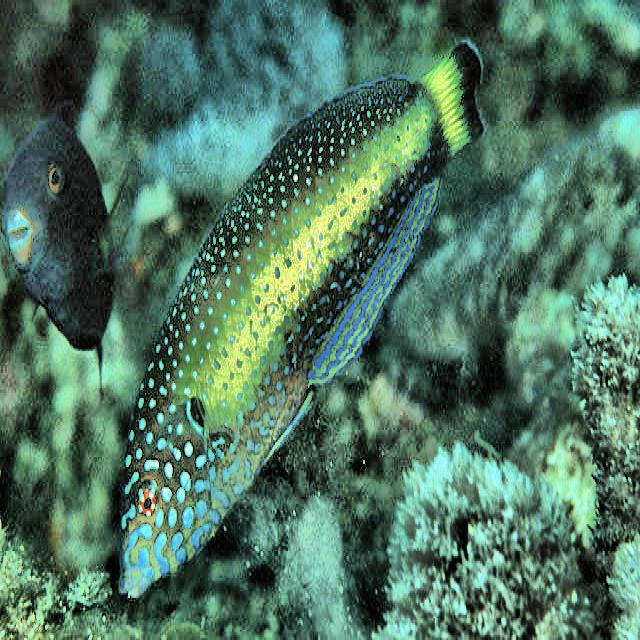fish: (117, 44, 486, 602), (0, 101, 128, 398)
